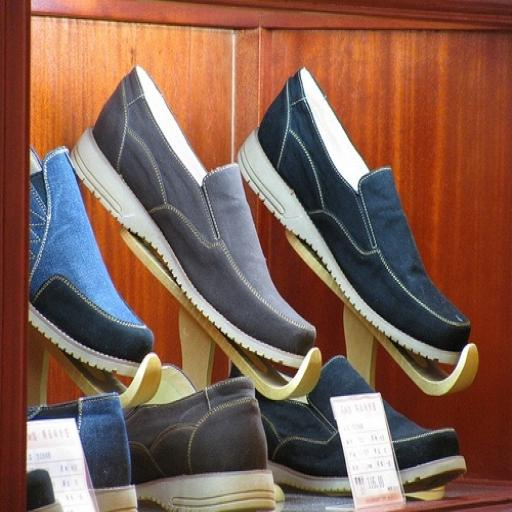shoe: (72, 67, 315, 367), (238, 68, 470, 363), (232, 356, 466, 494), (28, 148, 154, 374), (125, 376, 275, 510), (28, 393, 137, 512), (26, 468, 62, 512)
